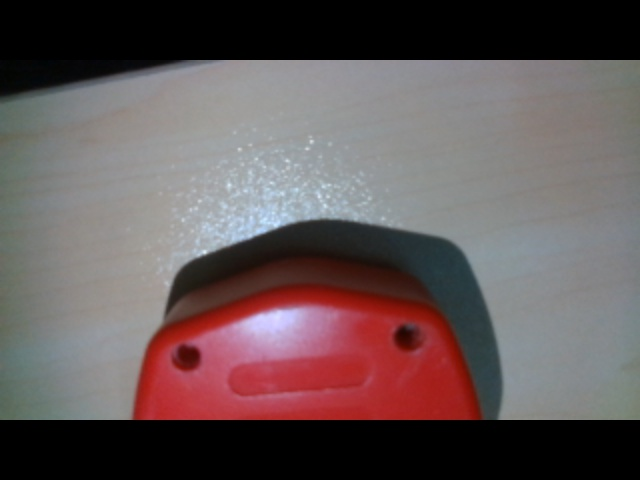Screw holes: (390, 319, 428, 354), (168, 343, 204, 371)
